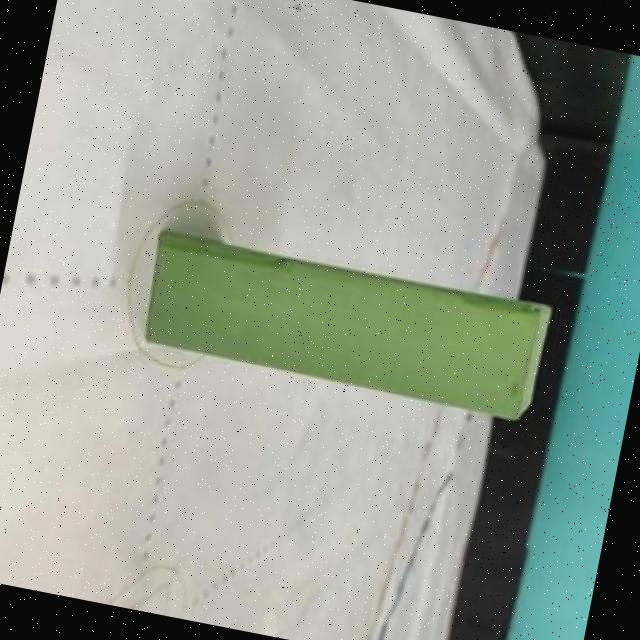greenbox: (140, 230, 555, 420)
